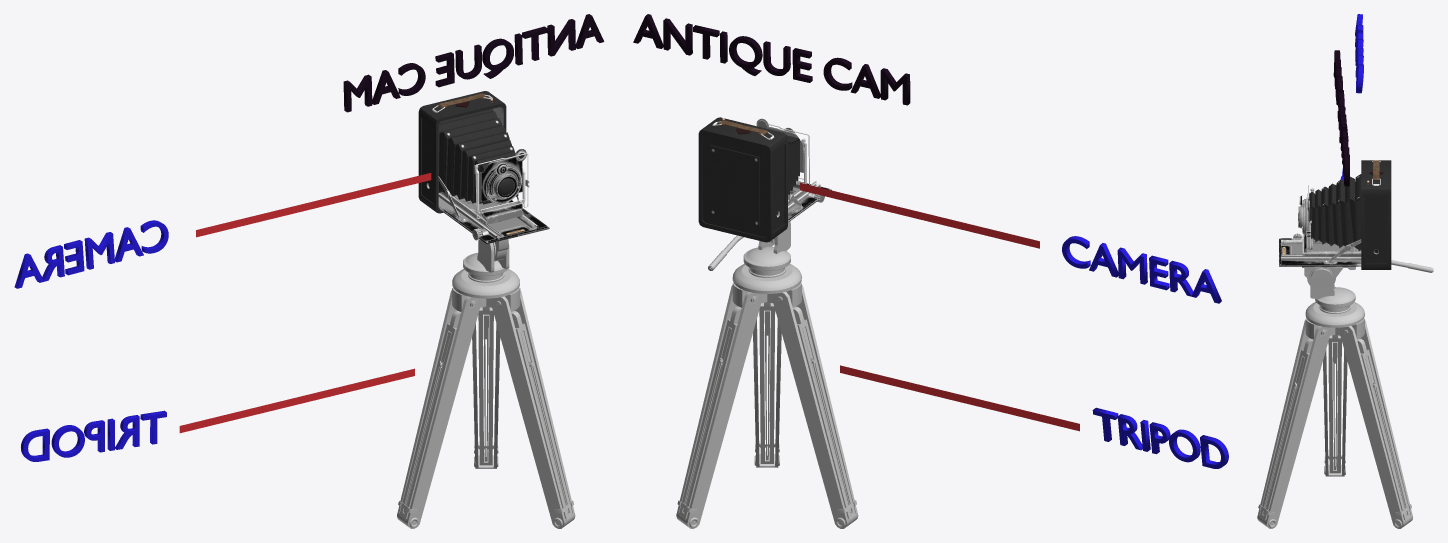
The model's file is finalsmall.gltf.
3 views of the same model, side by side, from view 1: azimuth 30°, elevation 25°; view 2: azimuth 150°, elevation 25°; view 3: azimuth 270°, elevation 25° (orthographic). The views are drawn at different scales.
Parts seen in each view (by area): view 1: tripod, camera, Text.002, Text, Text.001, NurbsPath, NurbsPath.001; view 2: tripod, camera, Text.002, Text, Text.001, NurbsPath, NurbsPath.001; view 3: tripod, camera, Text.002, Text.
Boxes of the visible parts, x1,y1,x2,y2 form: tripod: (397, 239, 575, 528); camera: (418, 91, 549, 244); Text.002: (343, 14, 604, 112); Text: (14, 220, 168, 288); Text.001: (21, 410, 166, 461); NurbsPath: (196, 173, 431, 237); NurbsPath.001: (179, 368, 414, 433); tripod: (676, 221, 858, 528); camera: (698, 117, 831, 242); Text.002: (633, 14, 910, 105); Text: (1062, 236, 1221, 303); Text.001: (1092, 407, 1228, 468); NurbsPath: (800, 183, 1039, 248); NurbsPath.001: (840, 365, 1079, 431); tripod: (1257, 260, 1433, 528); camera: (1279, 160, 1391, 269); Text.002: (1333, 50, 1349, 186); Text: (1355, 14, 1363, 93).
Size of the model in its own units: 2.97 by 2.24 by 0.8933.
